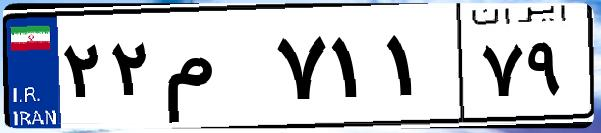1: (385, 28, 445, 110), (330, 28, 385, 110)
2: (57, 26, 110, 100), (110, 28, 158, 98)
7: (270, 28, 330, 110), (475, 38, 525, 113)
9: (525, 38, 570, 115)
م: (158, 20, 270, 120)
